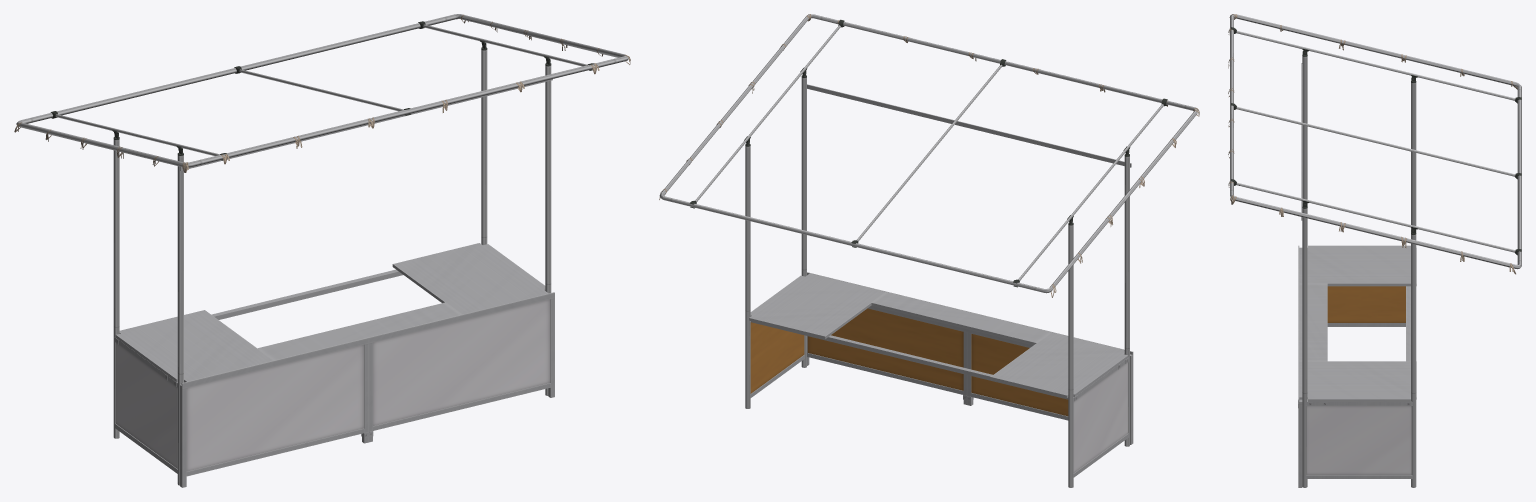
File: jsf_4P_s03_c04_t03.fbx
3 renders of one model, left to right at view 1: azimuth 30°, elevation 25°; view 2: azimuth 150°, elevation 25°; view 3: azimuth 270°, elevation 25°, orthographic. The views are drawn at different scales.
Visible parts, largest first — view 1: Base_s03_c04, Table_4P_s03_t03, Pillar4_s03, Rope_4P_s03; view 2: Base_s03_c04, Pillar4_s03, Table_4P_s03_t03; view 3: Pillar4_s03, Base_s03_c04, Table_4P_s03_t03, Rope_4P_s03.
Part boxes in pixels (x1=…): Base_s03_c04: x1=114, y1=292, x2=554, y2=487; Table_4P_s03_t03: x1=115, y1=243, x2=548, y2=386; Pillar4_s03: x1=16, y1=14, x2=628, y2=485; Rope_4P_s03: x1=14, y1=14, x2=630, y2=172; Base_s03_c04: x1=750, y1=272, x2=1133, y2=477; Pillar4_s03: x1=659, y1=14, x2=1198, y2=487; Table_4P_s03_t03: x1=749, y1=273, x2=1128, y2=400; Pillar4_s03: x1=1230, y1=14, x2=1521, y2=487; Base_s03_c04: x1=1298, y1=245, x2=1412, y2=487; Table_4P_s03_t03: x1=1299, y1=245, x2=1416, y2=405; Rope_4P_s03: x1=1228, y1=14, x2=1517, y2=274.
Size of the model in its own units: 316 by 243 by 211.
